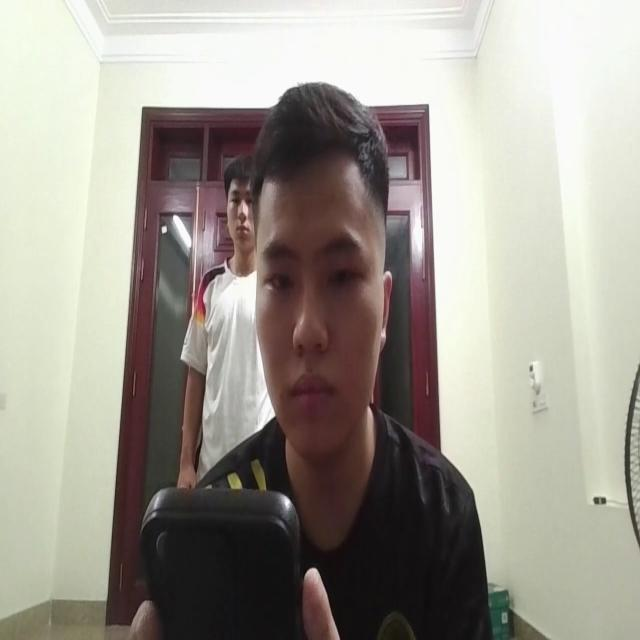extra_person: (178, 152, 256, 473)
phone: (134, 482, 312, 640)
student: (134, 77, 468, 640)
